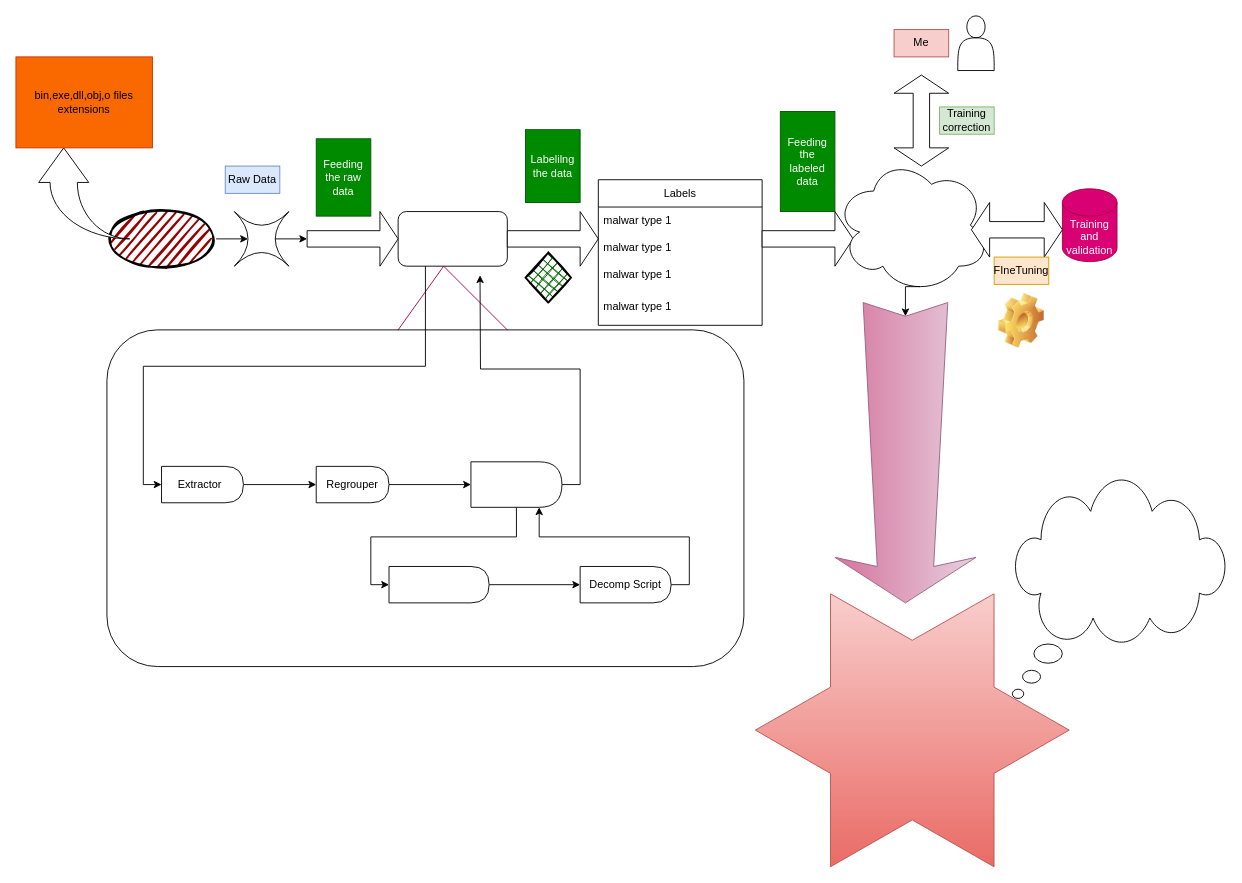
Image size: 1242x883. Some labels were removed from this diagram. The shapes that lost their labels are listed below. From the top down, each one's centre as x and y in pixels, then its label:
[452,238]: Curing data
[912,224]: LLM model
[516,484]: Automation
[438,584]: Ghidra analyzer
[1118,588]: Cloud Hosted tool
[911,730]: HawkSec
